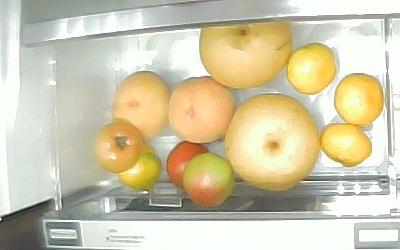peach: (168, 76, 235, 142), (111, 71, 170, 141)
pear: (224, 93, 320, 190), (199, 22, 293, 88)
tangerine: (333, 72, 383, 127), (286, 42, 336, 94), (321, 122, 372, 166), (118, 142, 161, 191)
tomato: (183, 152, 233, 207), (93, 123, 142, 172), (166, 140, 208, 187)
